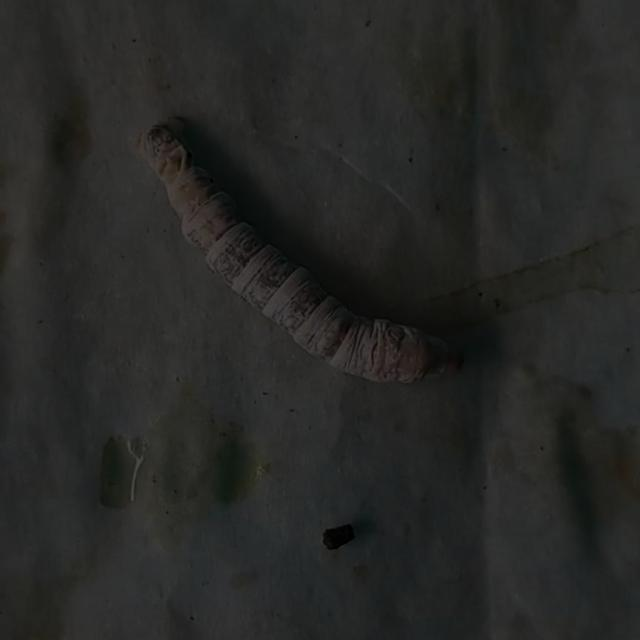Grasserie: (134, 114, 476, 398)
